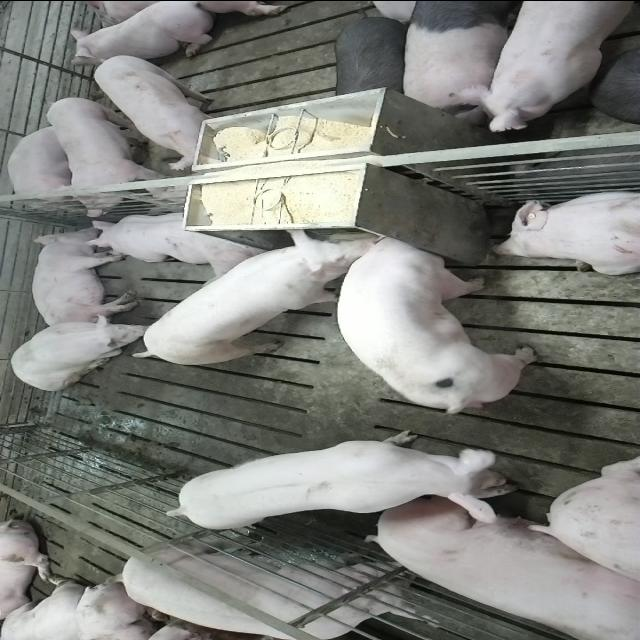Feeding: (339, 233, 549, 415), (130, 227, 378, 367)
Lateral_lying: (362, 482, 636, 637), (29, 225, 139, 329)
Sitting: (8, 312, 156, 390)
Standing: (157, 432, 521, 532), (106, 534, 428, 640), (450, 2, 638, 134), (91, 52, 238, 167), (42, 95, 170, 217), (401, 2, 530, 118)
Sternal_lying: (490, 188, 640, 275), (85, 208, 266, 274), (70, 1, 222, 59)
